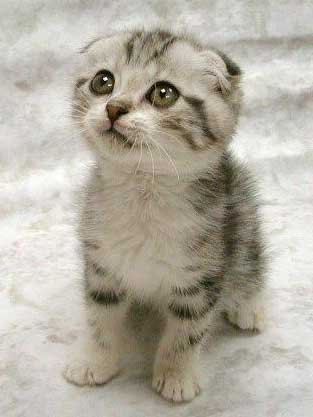cat: (62, 29, 264, 406)
